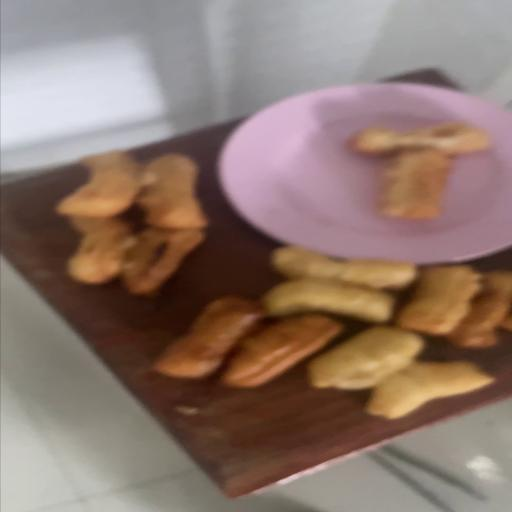street_burnt_defect: (65, 216, 208, 294)
street_golden_good: (148, 246, 508, 416)
